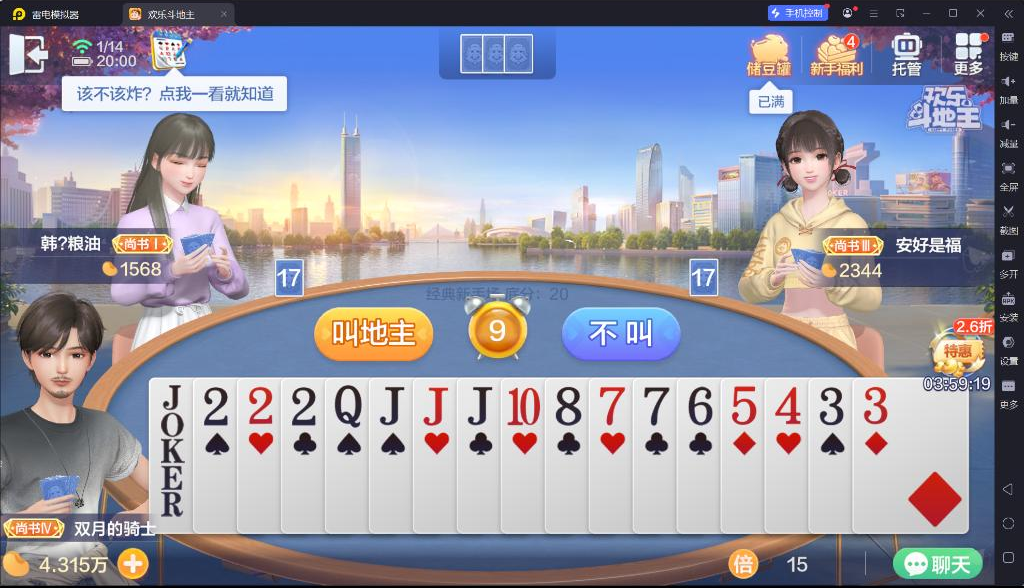J: (374, 380, 406, 426), (462, 384, 495, 427), (420, 384, 450, 428)
Q: (329, 381, 364, 430)
eight: (552, 383, 584, 428)
five: (728, 381, 758, 427)
four: (771, 383, 804, 427)
joker: (157, 383, 188, 466)
seven: (638, 382, 672, 428), (596, 383, 627, 427)
six: (682, 383, 716, 428)
ten: (505, 383, 541, 429)
three: (859, 384, 890, 426), (816, 383, 844, 427)
two: (201, 382, 232, 430), (287, 383, 318, 429), (245, 381, 274, 427)
